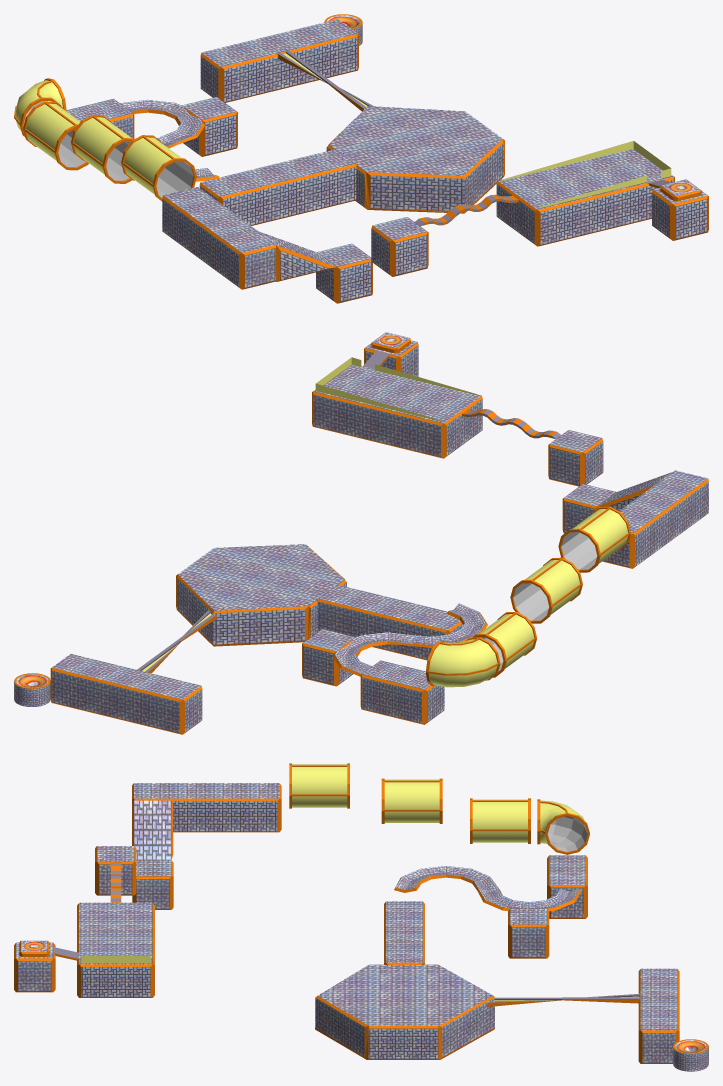
Rendered from Level20.fbx.
3 renders of one model, top to bottom at view 1: azimuth 30°, elevation 25°; view 2: azimuth 150°, elevation 25°; view 3: azimuth 270°, elevation 25°, orthographic. The views are drawn at different scales.
Parts seen in each view (by area): view 1: Level20; view 2: Level20; view 3: Level20.
Boxes of the visible parts, x1=… form: Level20: x1=14, y1=14, x2=708, y2=303; Level20: x1=14, y1=332, x2=708, y2=734; Level20: x1=14, y1=763, x2=708, y2=1071.
Size of the model in its own units: 3614 by 1156 by 5565.
Materials: 14 (7 with a texture image).
